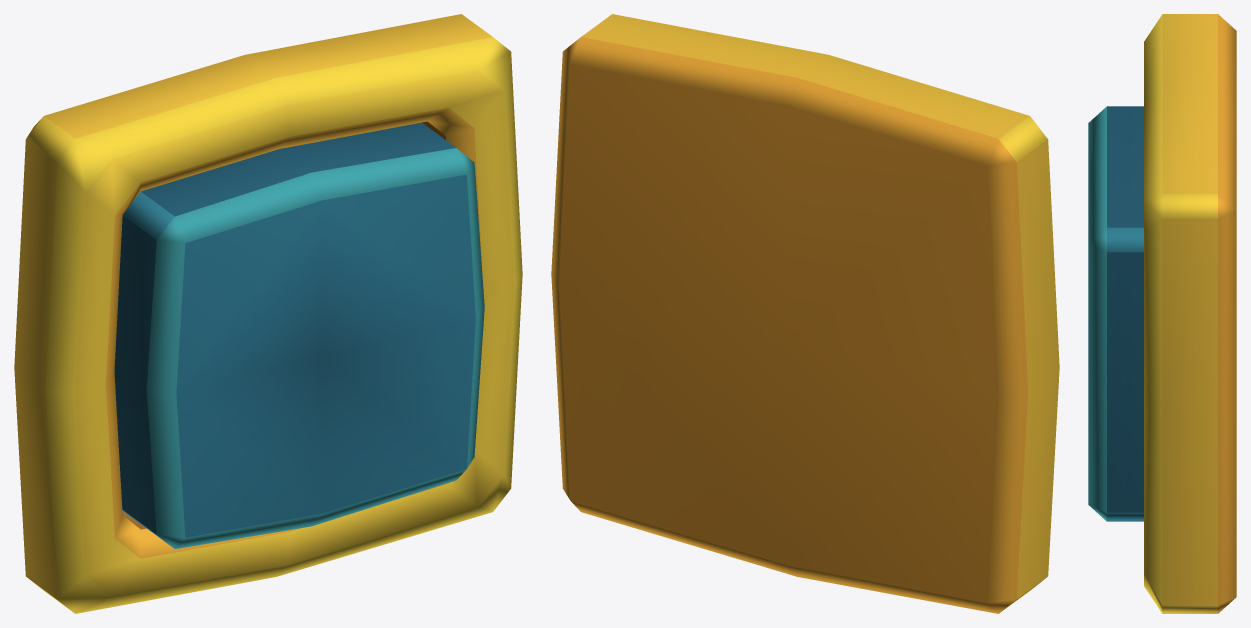
File: switch_wall_blue.fbx
The picture shows the model from 3 angles, left to right: view 1: azimuth 30°, elevation 25°; view 2: azimuth 150°, elevation 25°; view 3: azimuth 270°, elevation 25°; orthographic projection. The views are drawn at different scales.
Parts seen in each view (by area): view 1: switch_floor_blue_plate1, switch_wall_blue; view 2: switch_wall_blue; view 3: switch_wall_blue, switch_floor_blue_plate1.
Boxes of the visible parts, x1,y1,x2,y2 form: switch_floor_blue_plate1: [114, 122, 484, 548]; switch_wall_blue: [14, 14, 522, 613]; switch_wall_blue: [551, 14, 1059, 613]; switch_wall_blue: [1144, 14, 1236, 613]; switch_floor_blue_plate1: [1088, 106, 1143, 521].
Bounding box in the file's own units: 131 × 131 × 40.
